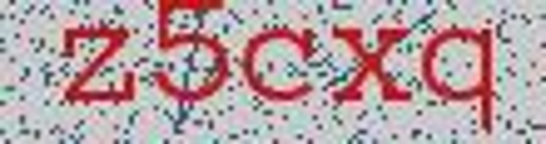5: (146, 2, 233, 109)
c: (237, 21, 318, 106)
q: (416, 16, 511, 139)
x: (326, 17, 418, 117)
z: (58, 20, 139, 119)
